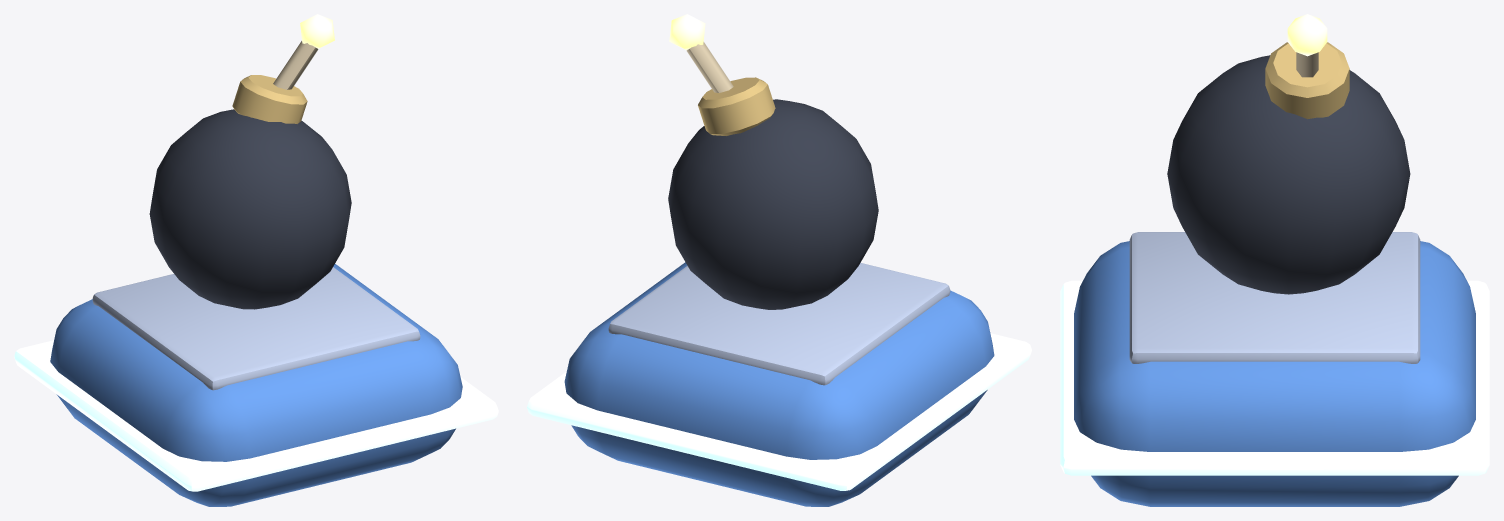
Rendered from pu_bomb.glb.
The picture shows the model from 3 angles, left to right: view 1: azimuth 30°, elevation 25°; view 2: azimuth 150°, elevation 25°; view 3: azimuth 270°, elevation 25°; orthographic projection. The views are drawn at different scales.
Parts seen in each view (by area): view 1: pu_bomb; view 2: pu_bomb; view 3: pu_bomb.
Part boxes in pixels (left/top/right/bottom): pu_bomb: left=14, top=14, right=498, bottom=506; pu_bomb: left=527, top=14, right=1031, bottom=506; pu_bomb: left=1060, top=14, right=1489, bottom=506.
Size of the model in its own units: 0.62 by 0.7595 by 0.62.
